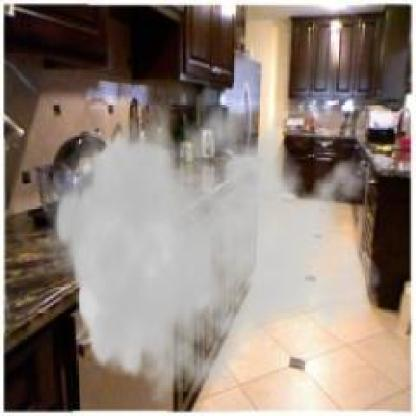Smoke: (43, 64, 382, 411)
